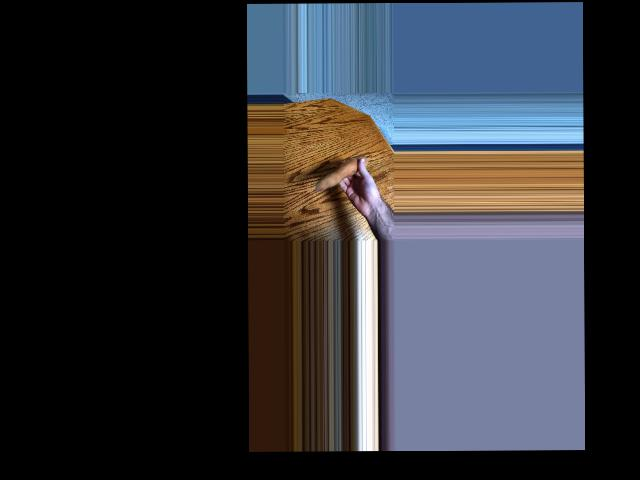sweet_potato: (315, 155, 369, 191)
